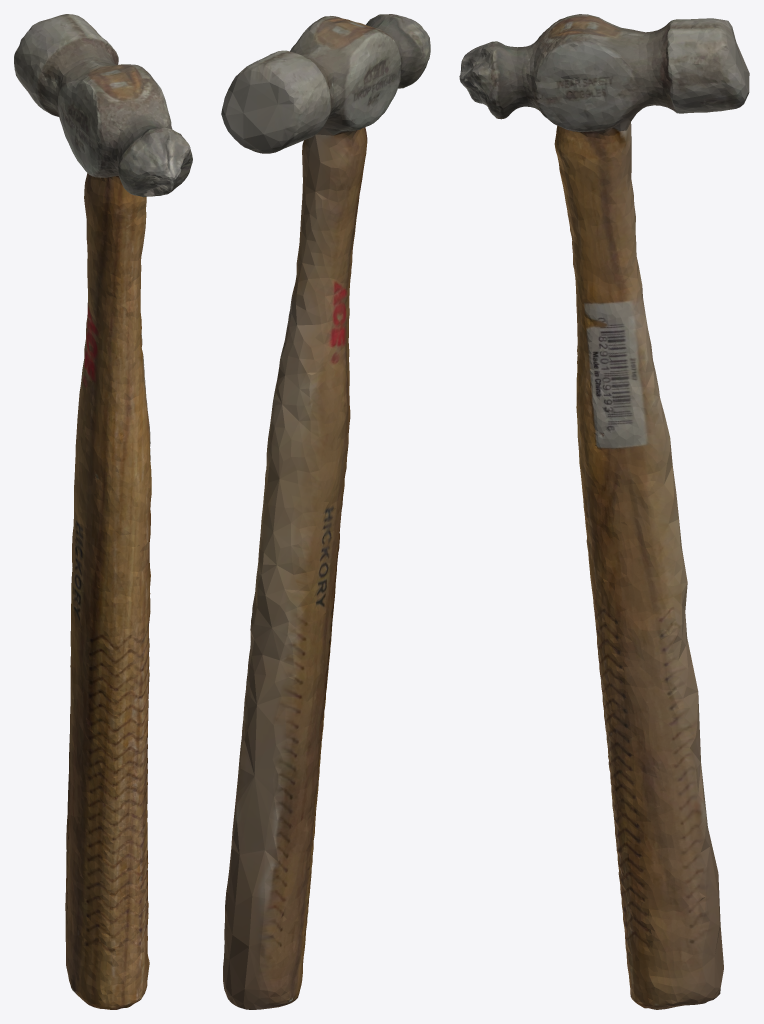
File: hammer_2.obj
The picture shows the model from 3 angles, left to right: view 1: azimuth 30°, elevation 25°; view 2: azimuth 150°, elevation 25°; view 3: azimuth 270°, elevation 25°; orthographic projection.
Visible parts, largest first — view 1: 3DModel.obj; view 2: 3DModel.obj; view 3: 3DModel.obj.
Part boxes in pixels (<box>): 3DModel.obj: <box>14,14,192,1009</box>; 3DModel.obj: <box>221,14,430,1009</box>; 3DModel.obj: <box>459,14,749,1009</box>.
Size of the model in its own units: 0.0379 by 0.3162 by 0.086.
Materials: 1 (1 with a texture image).
